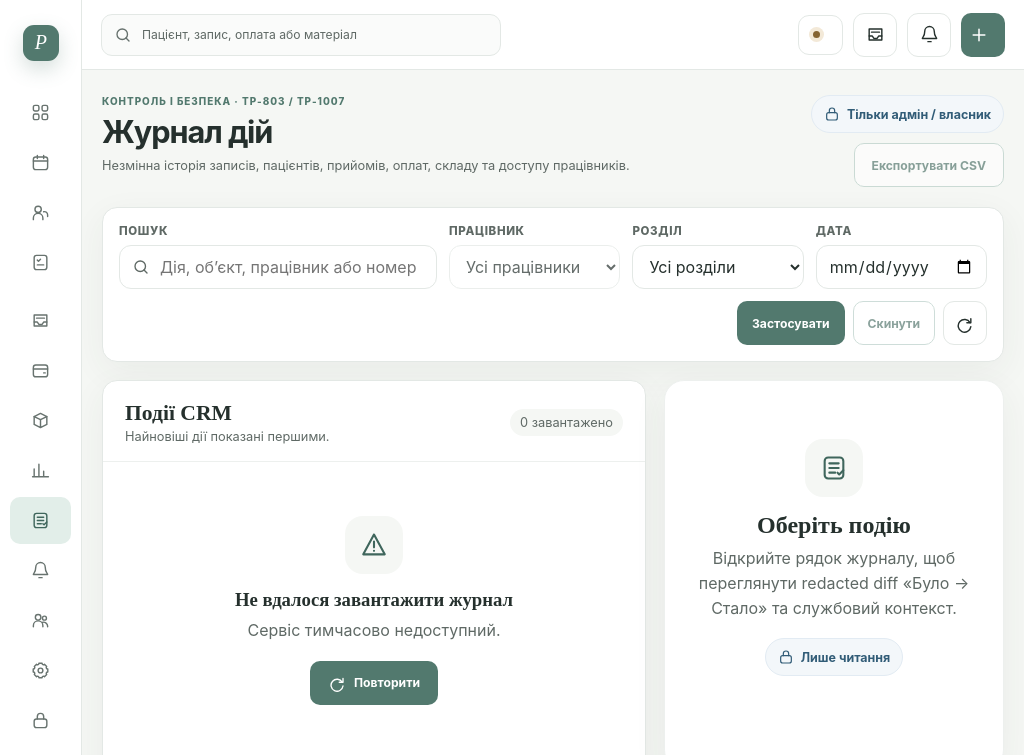
admin audit journal › recovers from list failure and appends an older cursor page
Expected: the message shows "Сервіс тимчасово недоступний", [248,620,500,640]
Click the button "Повторити": (374, 683) [310,661,438,705]
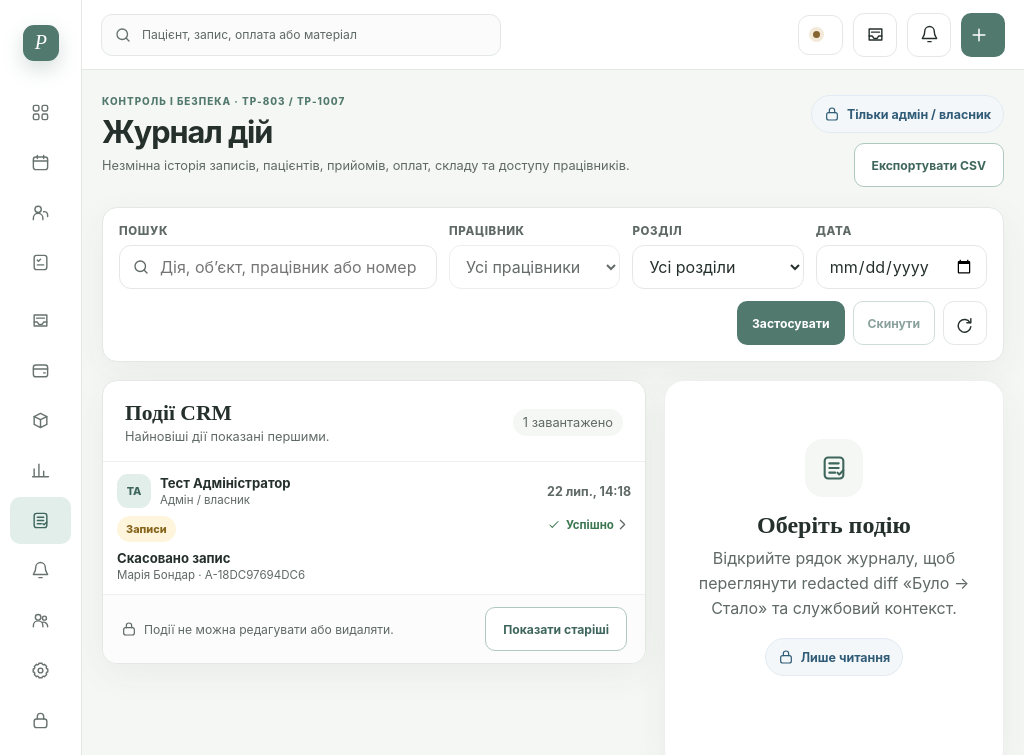
Expected: the button "Скасовано запис" is shown, [103,462,645,595]
Click the button "Показати старіші": (556, 629) [485,607,627,651]
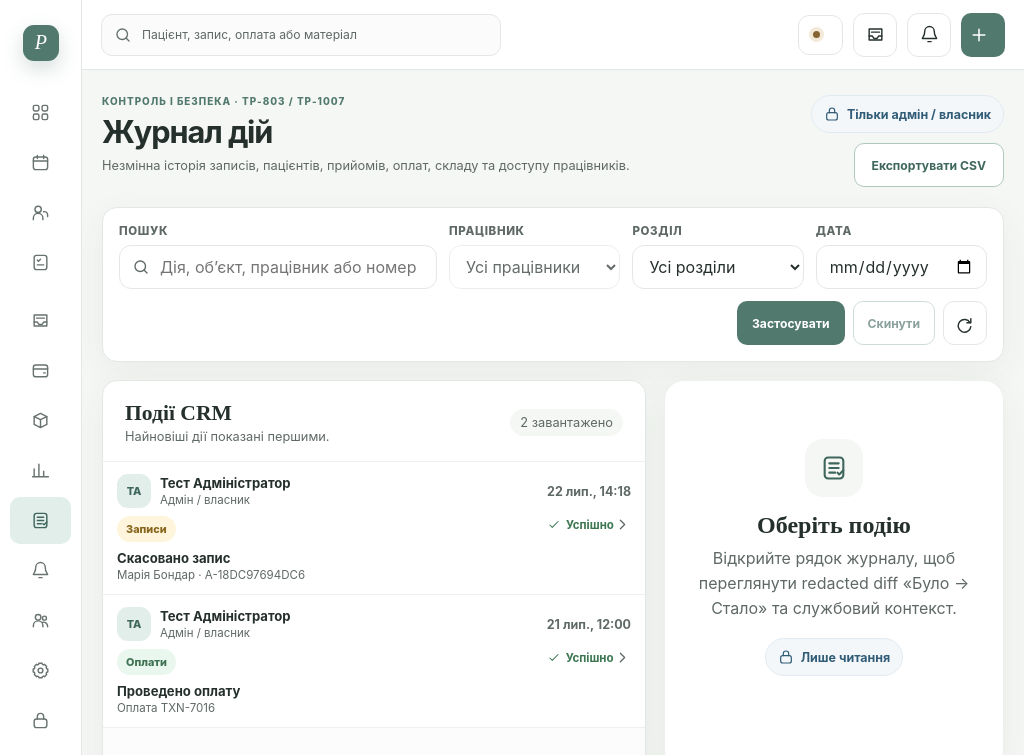
Expected: the button "Проведено оплату" is shown, [103,595,645,728]
Expected: the button "Показати старіші" is gone
